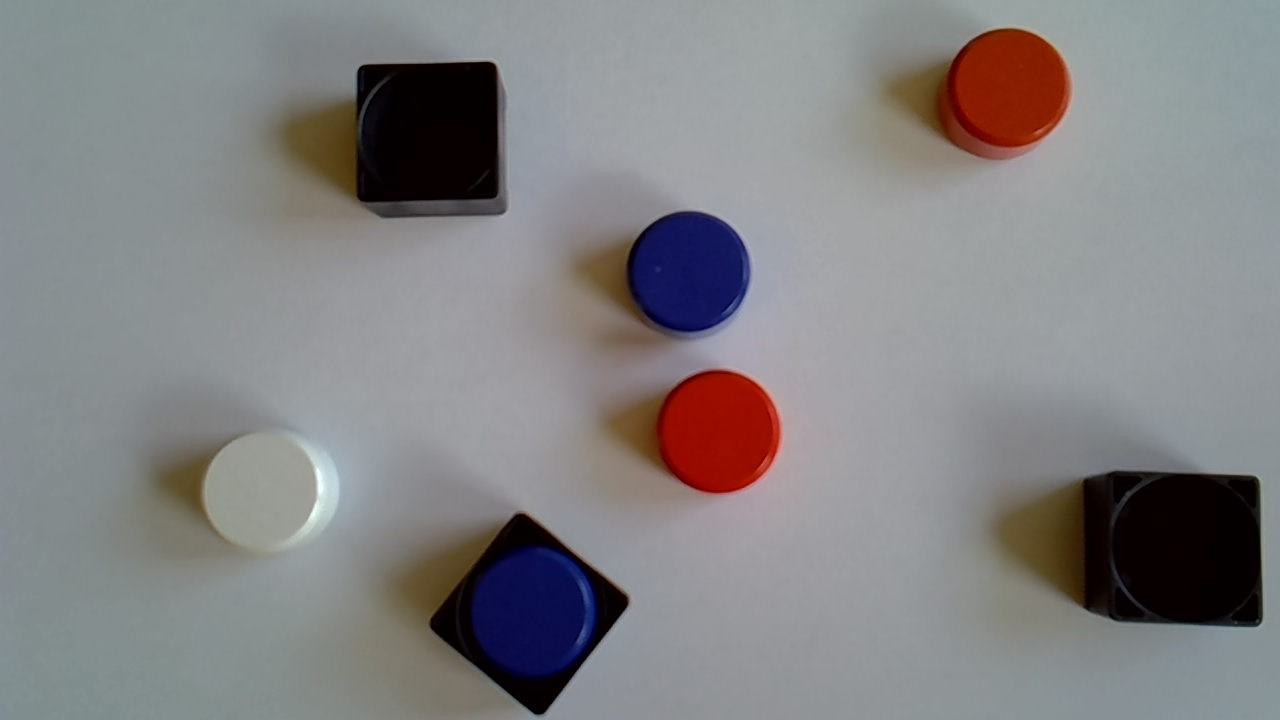Behaelter: (431, 511, 634, 718), (1078, 469, 1266, 629), (352, 63, 513, 219)
WerkStueck: (934, 27, 1075, 162), (198, 428, 344, 558), (468, 545, 599, 681), (653, 367, 784, 495), (623, 210, 753, 338)
